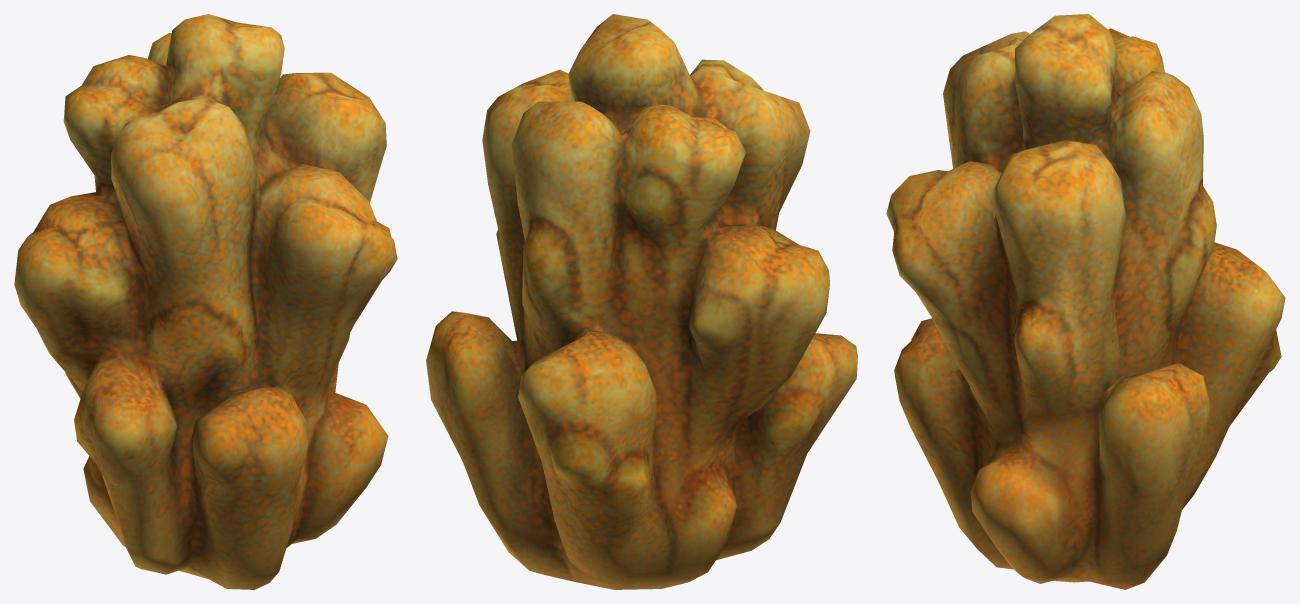
Rendered from Coral V7.fbx.
3 renders of one model, left to right at view 1: azimuth 30°, elevation 25°; view 2: azimuth 150°, elevation 25°; view 3: azimuth 270°, elevation 25°, orthographic.
Visible parts, largest first — view 1: Coral V7; view 2: Coral V7; view 3: Coral V7.
Part boxes in pixels (left/top/right/bottom): Coral V7: left=14, top=14, right=397, bottom=589; Coral V7: left=426, top=14, right=857, bottom=589; Coral V7: left=886, top=14, right=1285, bottom=589.
Size of the model in its own units: 36.73 by 54.08 by 35.55.
